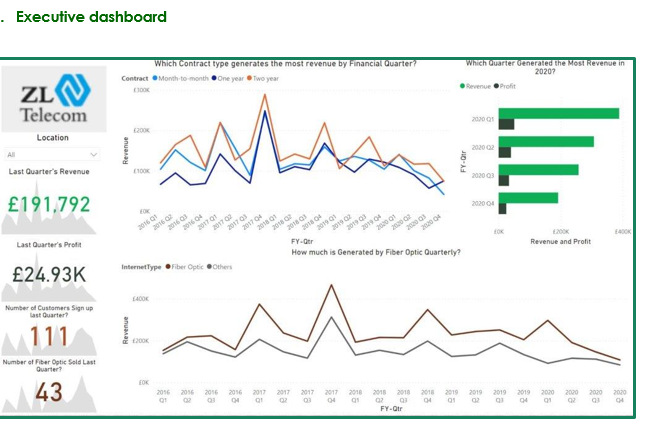

What the dashboard file says about the page in this screenshot:
{"tool":"powerbi","page":{"name":"executive","canvas":[1280,720],"ordinal":1},"visuals":[{"type":"kpi","fields":{"Indicator":["SalesInfo1.Revenue"],"TrendLine":["Dateinfo.FY-Qtr"]},"box":[0,16.9,202.6,150.3],"z":0},{"type":"kpi","fields":{"TrendLine":["Dateinfo.FY-Qtr"],"Indicator":["SalesInfo1.TotalProfit"]},"box":[0,185.8,202.6,150.3],"z":1000},{"type":"kpi","fields":{"TrendLine":["Dateinfo.FY-Qtr"],"Indicator":["SalesInfo1.NumberOfCustomers"]},"box":[0,359.7,202.6,150.3],"z":2000},{"type":"kpi","fields":{"TrendLine":["Dateinfo.FY-Qtr"],"Indicator":["SalesInfo1.NumberOfFiberOptic"]},"box":[0,530,203,150],"z":3000},{"type":"lineChart","fields":{"Category":["Dateinfo.FY-Qtr","Dateinfo.Qtr"],"Y":["SalesInfo1.TotalRevenue"],"Series":["SalesInfo1.Contract"]},"box":[221.2,25.3,683.9,320.8],"z":4001},{"type":"clusteredBarChart","fields":{"Category":["Dateinfo.FY-Qtr"],"Y":["SalesInfo1.TotalRevenue","SalesInfo1.TotalProfit"]},"box":[915,25,365,321],"z":4002},{"type":"lineChart","fields":{"Category":["Dateinfo.FY-Qtr","Dateinfo.Qtr"],"Y":["SalesInfo1.TotalRevenue"],"Series":["SalesInfo1.internetype"]},"box":[221.2,390.1,1019.9,290.4],"z":4003}]}

Visuals, with their boxes on the page's 1280x720 design canvas (x1, y1, x2, y2). These are canvas units, not pixel positions in the 668x444 screenshot, which may show the page scaled, cropped or inside an application window:
kpi - SalesInfo1.Revenue x Dateinfo.FY-Qtr: x1=0, y1=17, x2=203, y2=167
kpi - Dateinfo.FY-Qtr x SalesInfo1.TotalProfit: x1=0, y1=186, x2=203, y2=336
kpi - Dateinfo.FY-Qtr x SalesInfo1.NumberOfCustomers: x1=0, y1=360, x2=203, y2=510
kpi - Dateinfo.FY-Qtr x SalesInfo1.NumberOfFiberOptic: x1=0, y1=530, x2=203, y2=680
lineChart - Dateinfo.FY-Qtr x Dateinfo.Qtr: x1=221, y1=25, x2=905, y2=346
clusteredBarChart - Dateinfo.FY-Qtr x SalesInfo1.TotalRevenue: x1=915, y1=25, x2=1280, y2=346
lineChart - Dateinfo.FY-Qtr x Dateinfo.Qtr: x1=221, y1=390, x2=1241, y2=680
